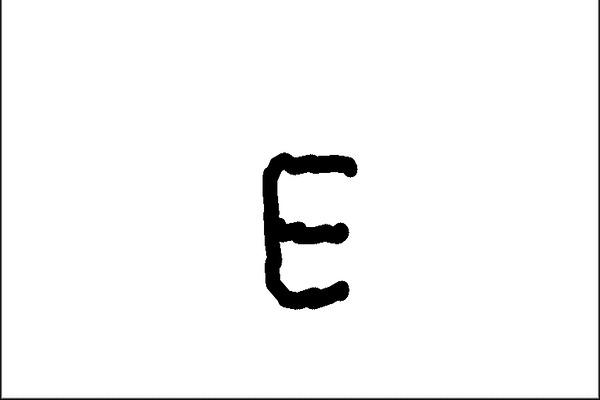E: (256, 146, 362, 316)
